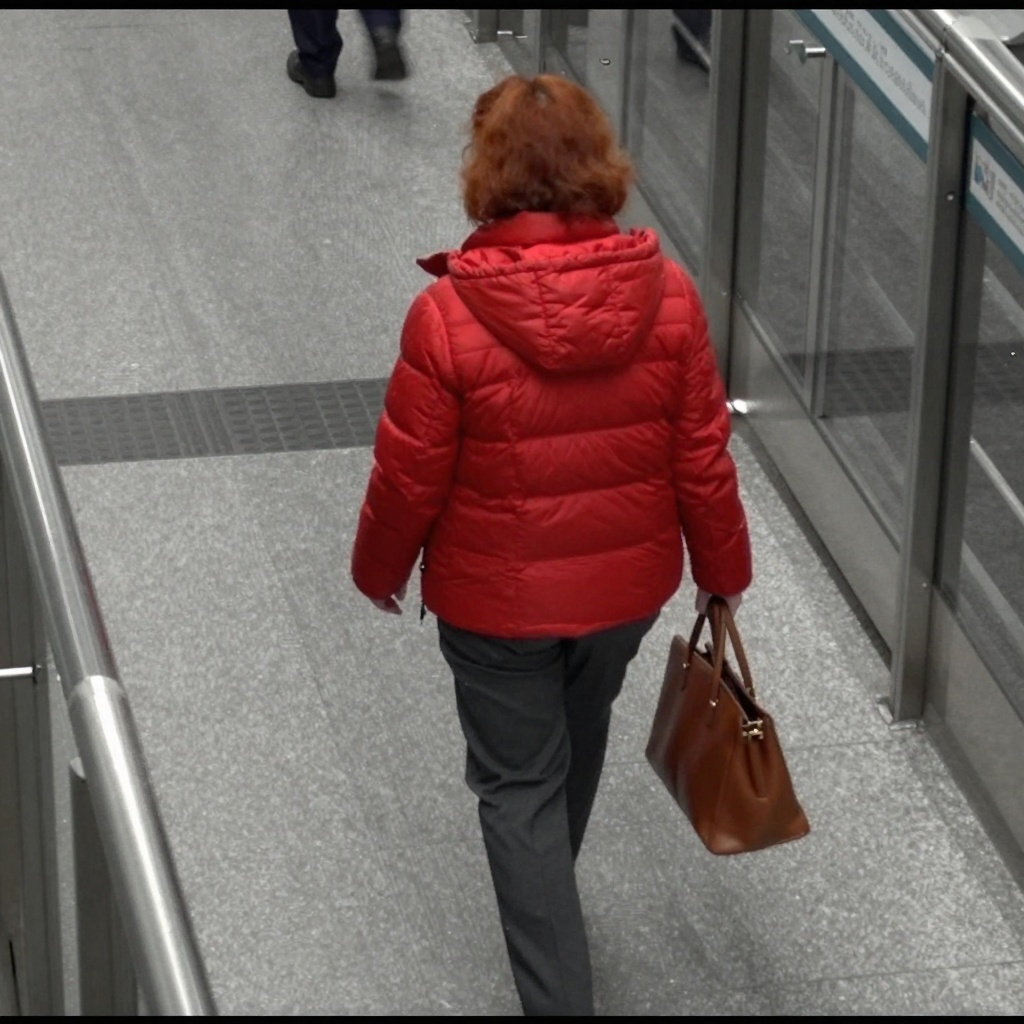Normal activity: (347, 63, 756, 1007), (286, 9, 411, 99)
